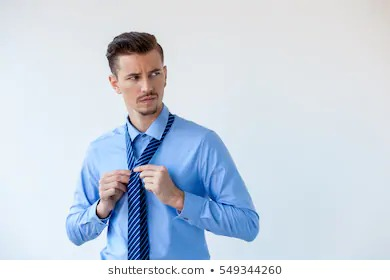F_shirt: (64, 112, 264, 259)
F_tie: (126, 114, 175, 257)
